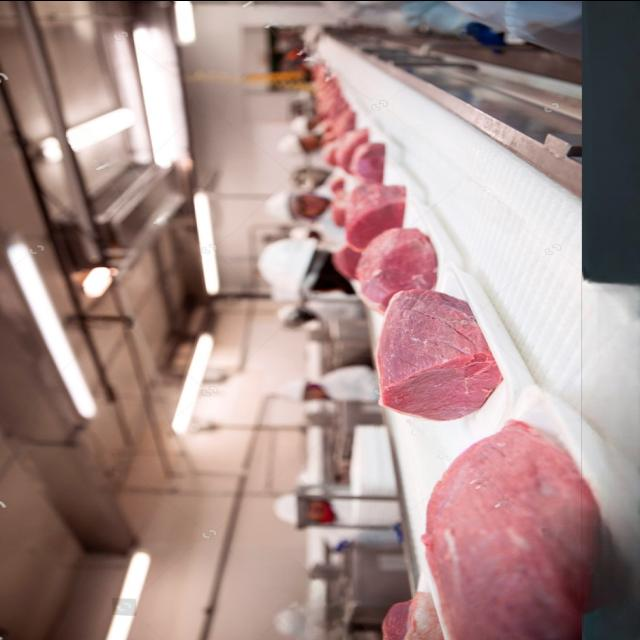food: (416, 417, 607, 640), (370, 285, 504, 420)
